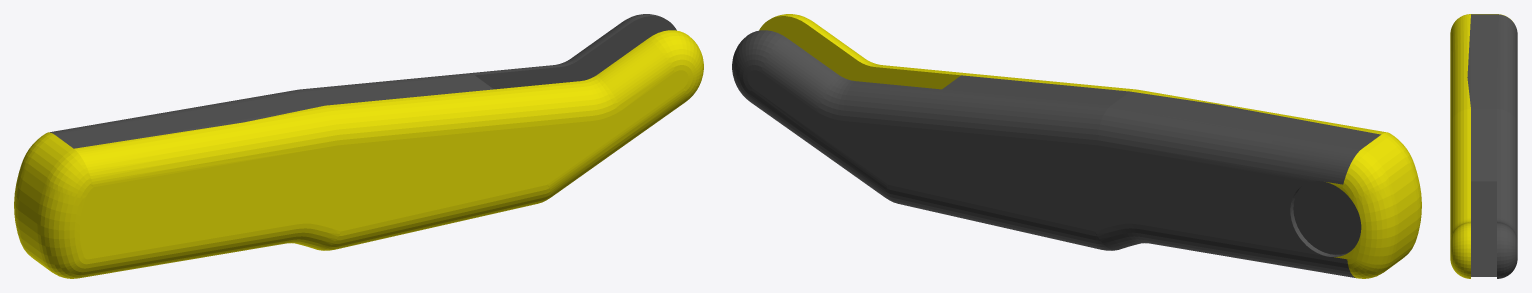
Rendered from right_thigh.dae.
3 views of the same model, side by side, from view 1: azimuth 30°, elevation 25°; view 2: azimuth 150°, elevation 25°; view 3: azimuth 270°, elevation 25° (orthographic). The views are drawn at different scales.
Visible parts, largest first — view 1: Right Thign; view 2: Right Thign; view 3: Right Thign.
Boxes of the visible parts, x1,y1,x2,y2 form: Right Thign: (14, 14, 703, 278); Right Thign: (732, 14, 1421, 278); Right Thign: (1450, 14, 1517, 278).
Bounding box in the file's own units: 0.4961 × 0.065 × 0.1178.
